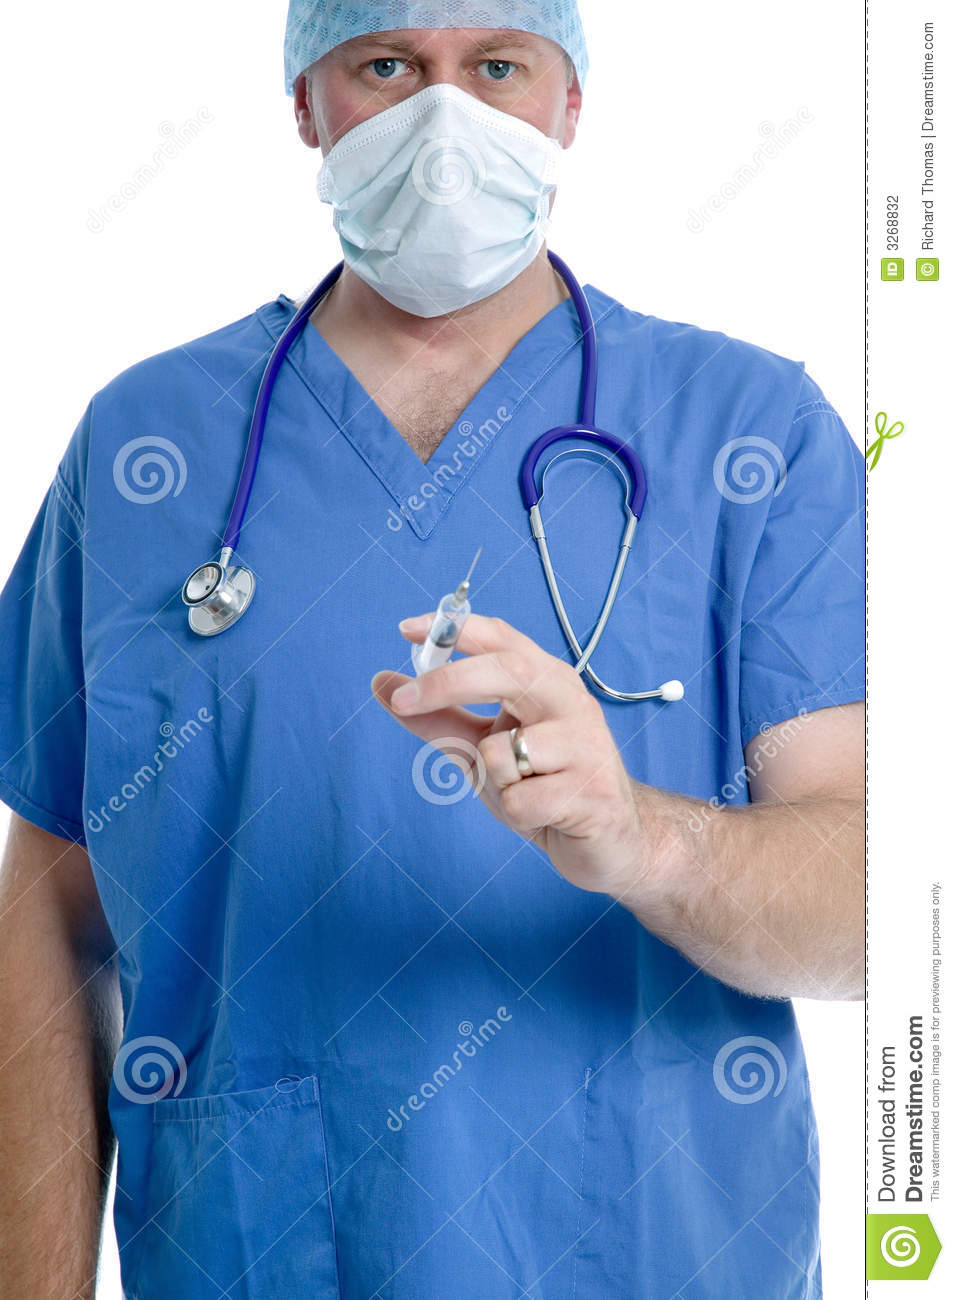mask: (317, 99, 569, 313)
